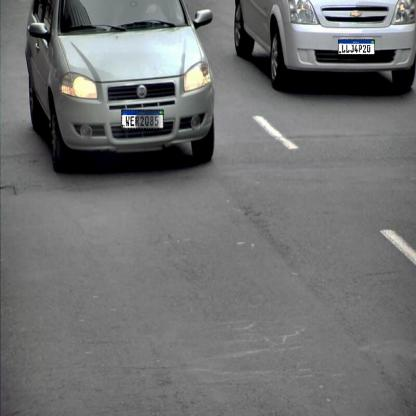PlacaM: (121, 110, 164, 129), (338, 39, 375, 55)
